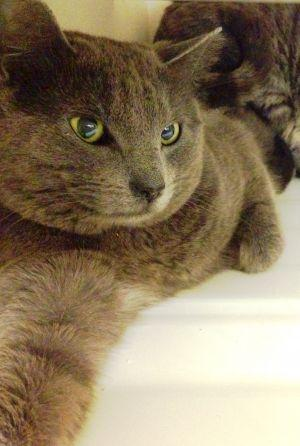rblue: (3, 1, 224, 256)
